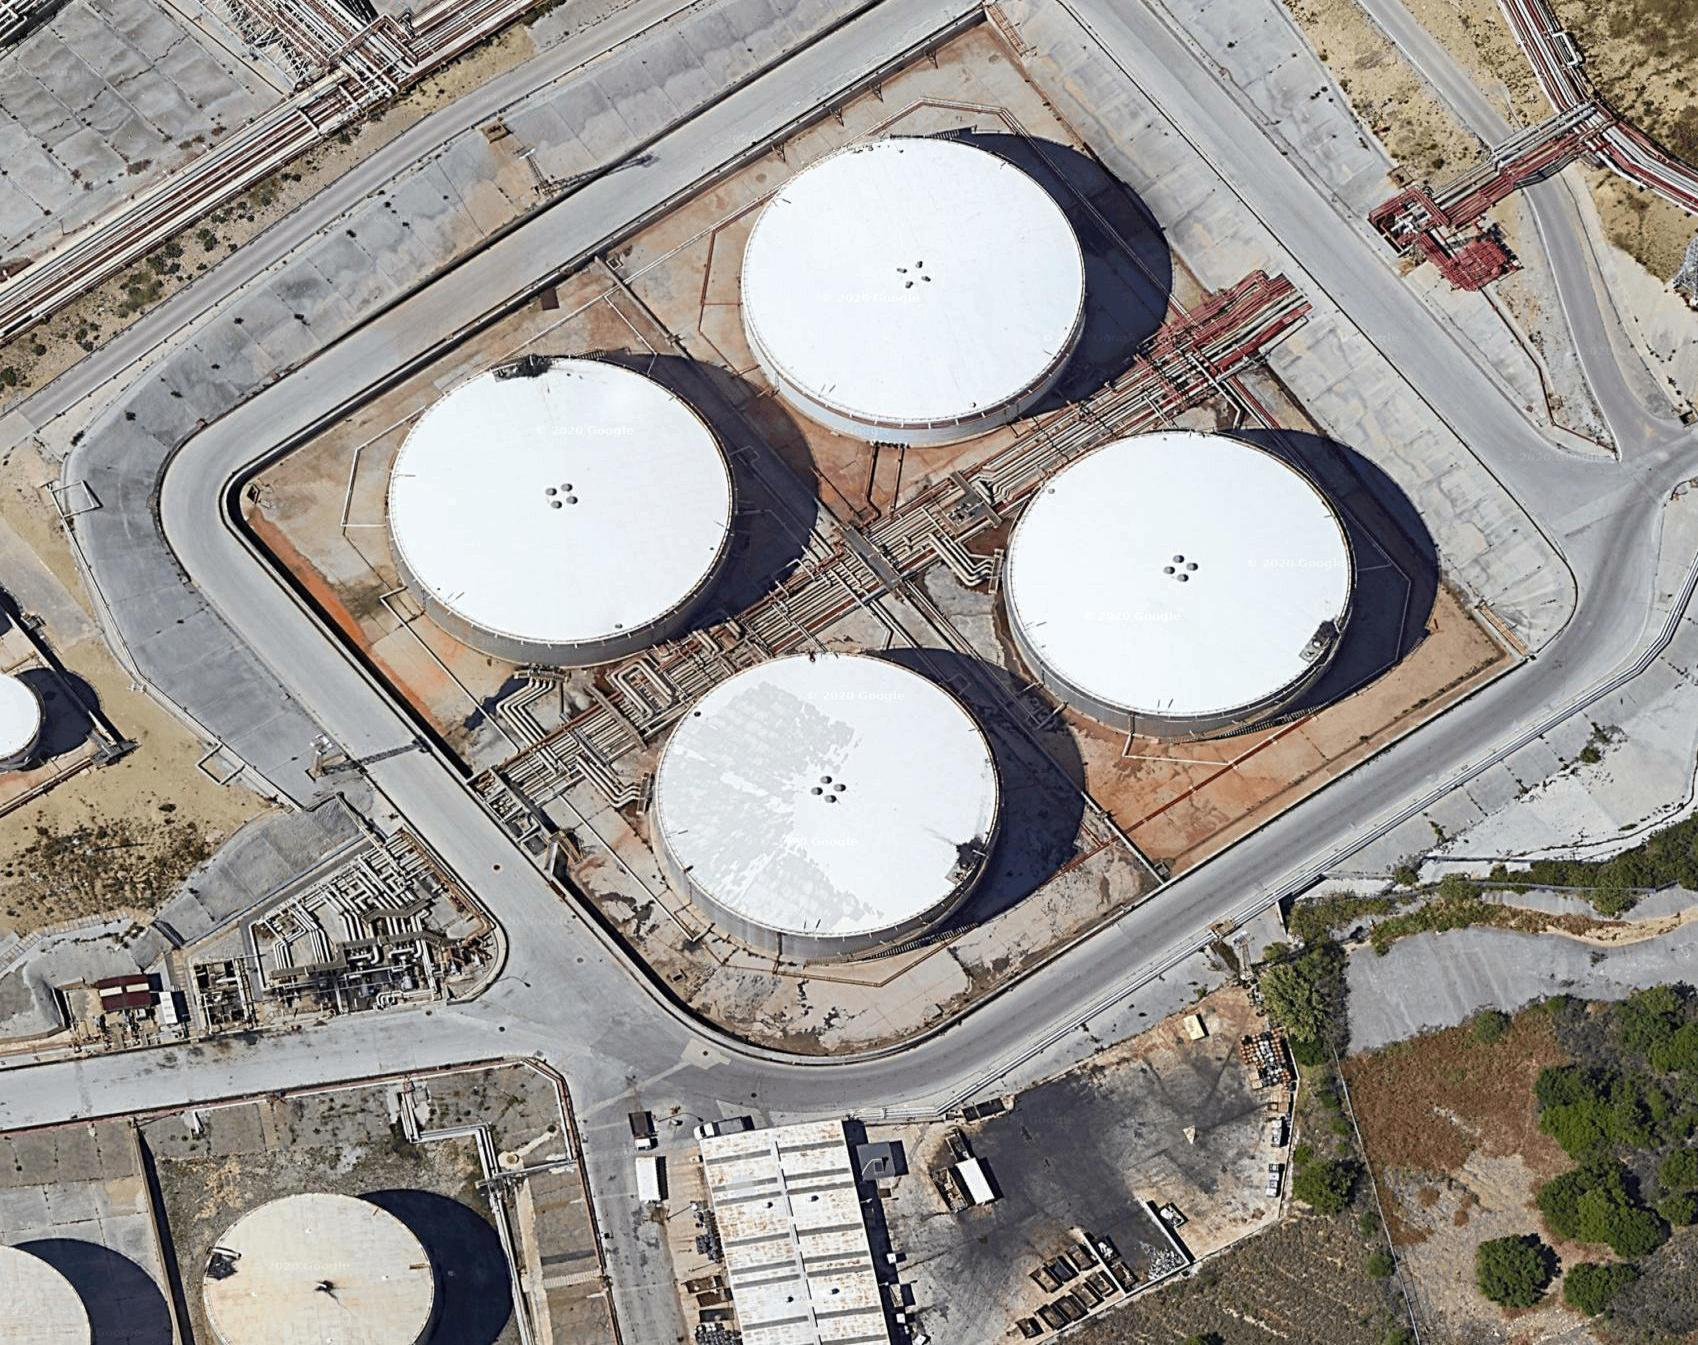storage-tank: (732, 116, 1111, 452), (361, 340, 746, 657), (999, 405, 1369, 732), (655, 633, 1012, 951), (187, 1184, 445, 1345)
